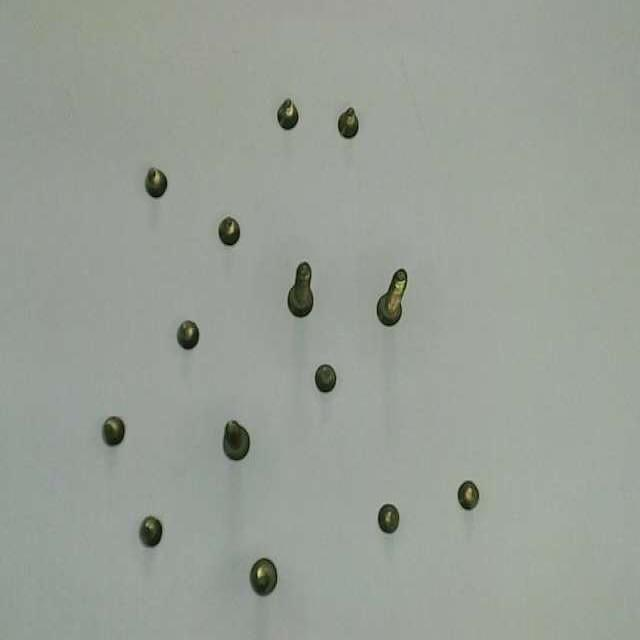Parafuso: (377, 270, 406, 326), (288, 262, 313, 317), (223, 420, 249, 461), (250, 558, 277, 595), (139, 515, 162, 546), (102, 416, 125, 446), (145, 167, 167, 198), (277, 98, 298, 130), (457, 480, 479, 510), (378, 504, 399, 534), (338, 107, 358, 138), (218, 216, 239, 245), (177, 320, 198, 349), (315, 364, 336, 393)
